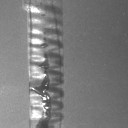slag inclusion: (22, 0, 66, 128)
